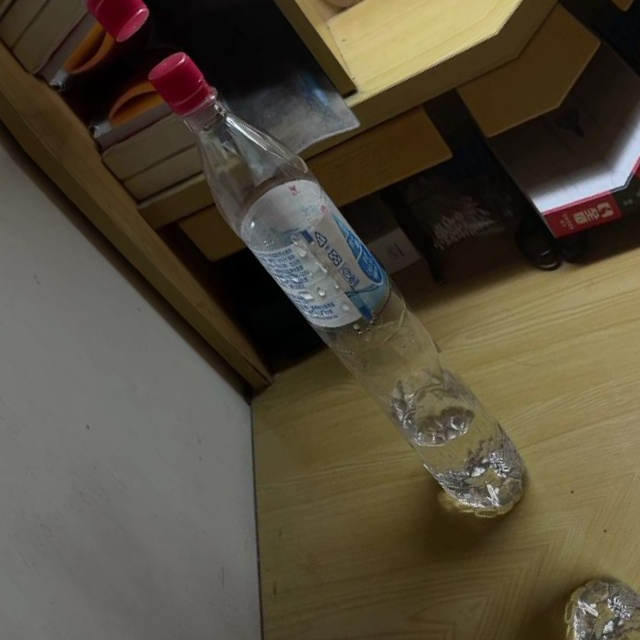Water: (116, 32, 564, 538)
